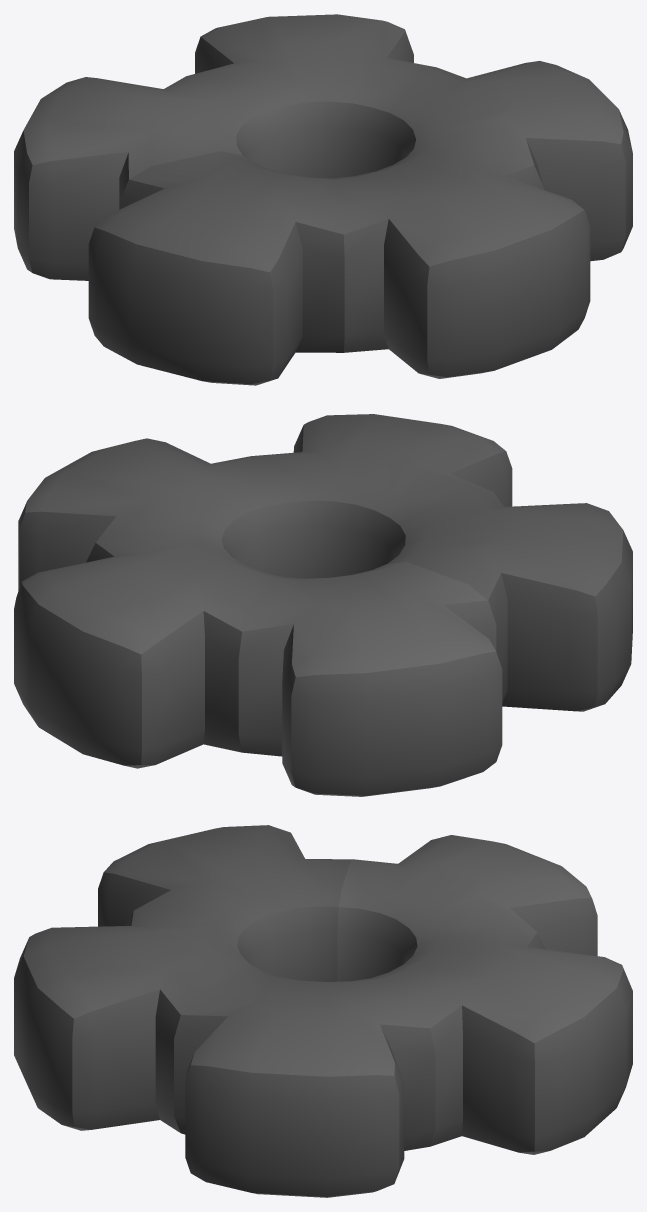
The model's file is Gear.fbx.
The picture shows the model from 3 angles, top to bottom: view 1: azimuth 30°, elevation 25°; view 2: azimuth 150°, elevation 25°; view 3: azimuth 270°, elevation 25°; orthographic projection. The views are drawn at different scales.
Visible parts, largest first — view 1: Gear; view 2: Gear; view 3: Gear.
Part boxes in pixels (left/top/right/bottom): Gear: left=14, top=14, right=632, bottom=385; Gear: left=14, top=414, right=632, bottom=796; Gear: left=14, top=825, right=632, bottom=1197.
Size of the model in its own units: 0.3592 by 0.1003 by 0.3608.
Materials: 1 (1 with a texture image).
